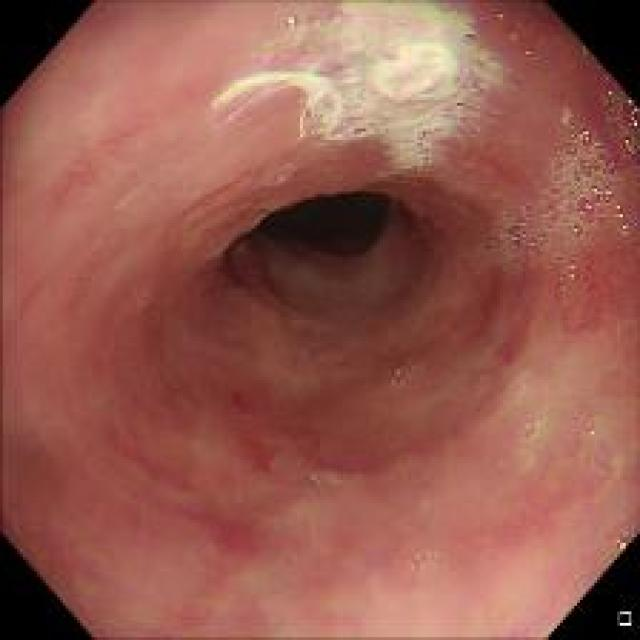bubbles: (484, 89, 631, 271), (416, 124, 439, 191), (610, 520, 634, 565), (408, 550, 442, 578), (392, 348, 421, 379), (282, 9, 310, 38), (518, 416, 546, 439), (268, 166, 298, 184), (392, 12, 411, 30), (304, 14, 322, 31), (352, 125, 369, 140), (461, 31, 476, 48), (586, 421, 598, 439)
contrast: (251, 178, 401, 264)
